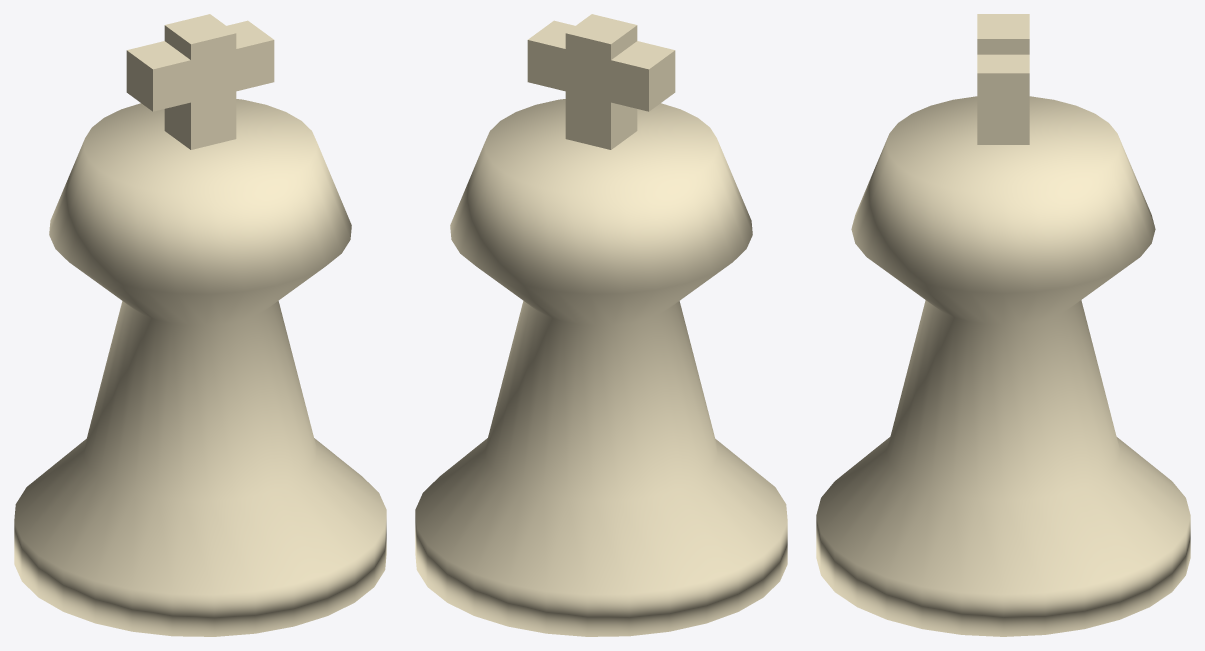
Rendered from w-king.glb.
3 renders of one model, left to right at view 1: azimuth 30°, elevation 25°; view 2: azimuth 150°, elevation 25°; view 3: azimuth 270°, elevation 25°, orthographic.
Visible parts, largest first — view 1: w-king; view 2: w-king; view 3: w-king.
Part boxes in pixels (bbox=[...]): w-king: bbox=[14, 14, 386, 636]; w-king: bbox=[415, 14, 787, 636]; w-king: bbox=[816, 14, 1190, 636].
Bounding box in the file's own units: 0.64 × 1 × 0.64.
